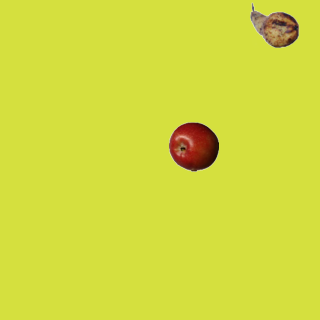Apple Braeburn: (168, 121, 218, 171)
Pear Abate: (249, 0, 299, 50)
